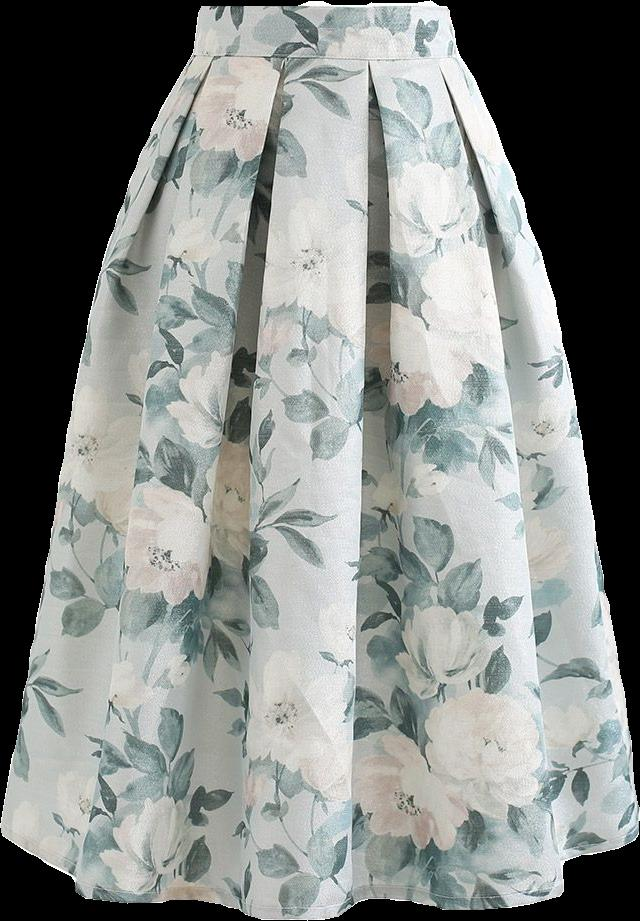Hemline: (0, 825, 639, 920)
Waistline: (185, 49, 467, 68), (192, 0, 453, 16)
